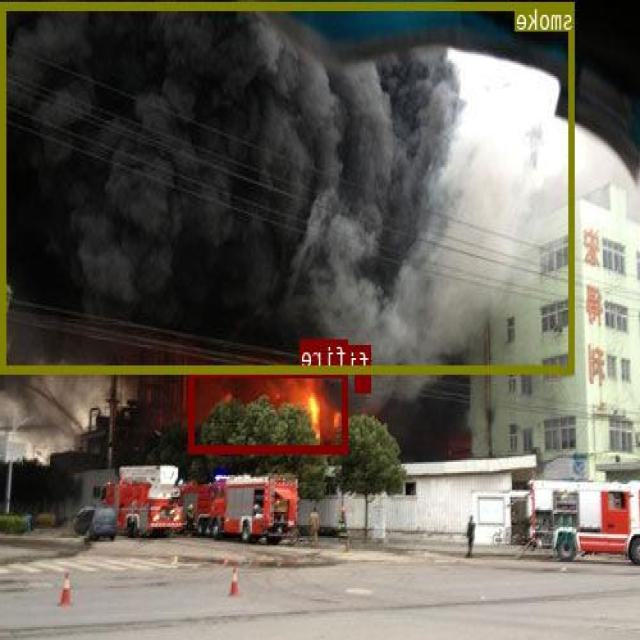fire: (190, 368, 349, 452), (357, 374, 372, 391)
smoke: (3, 0, 576, 371)
